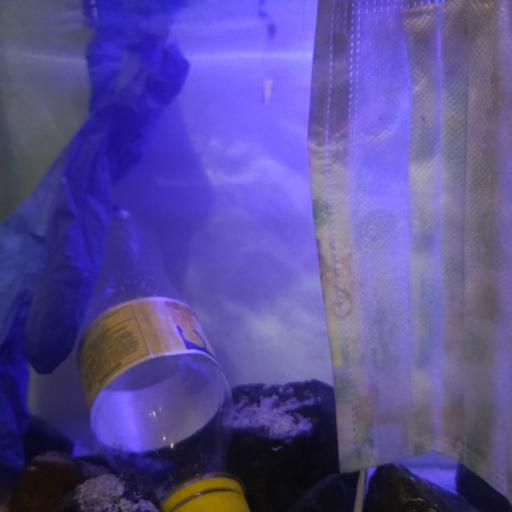bottle_cap: (168, 491, 247, 512)
glove: (0, 0, 193, 484)
mask: (307, 0, 512, 512)
plastic_bottle: (75, 207, 250, 512)
